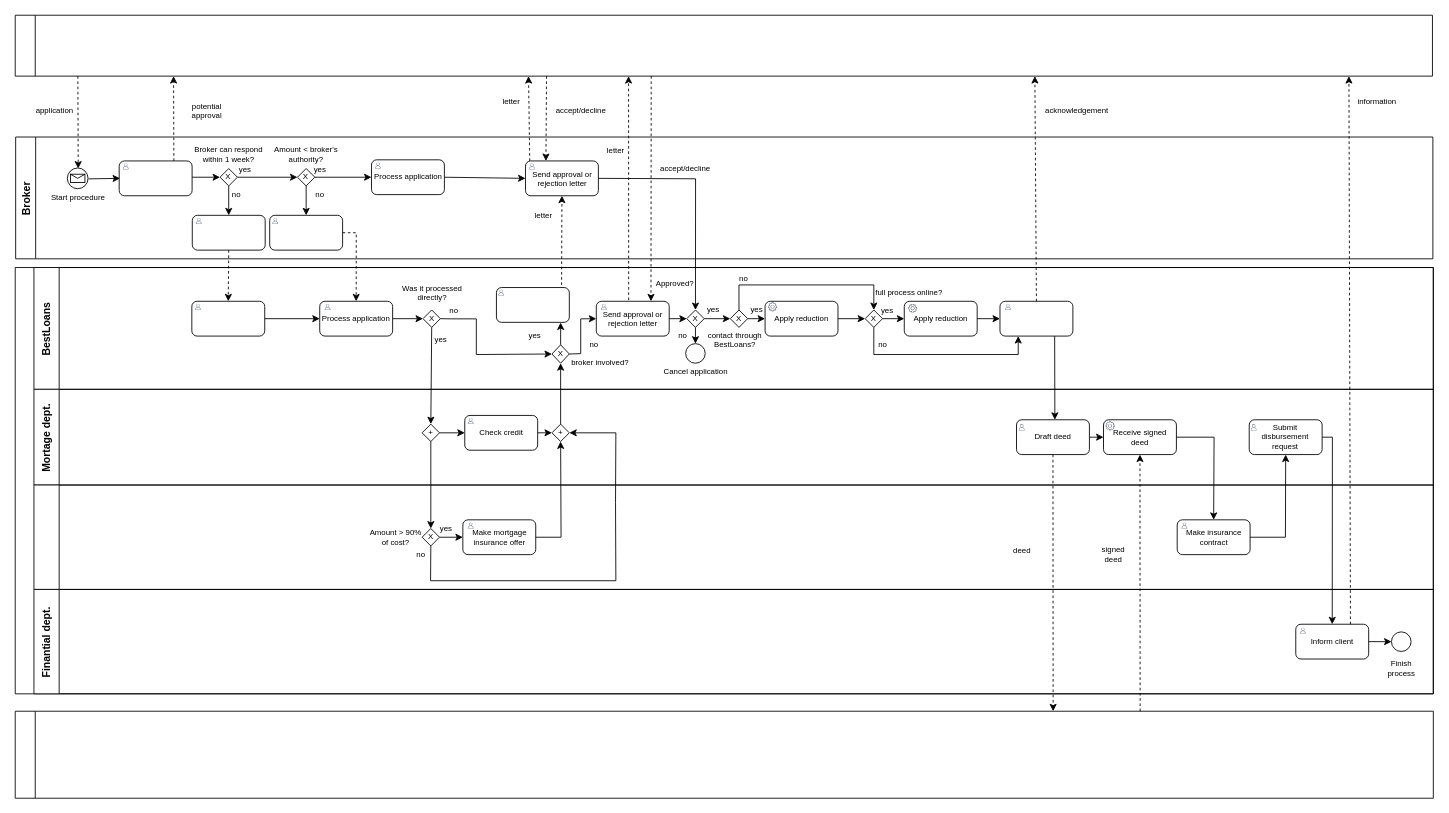
This 1449x813 diagram has some shape labels left out. The shapes that lost their labels are listed below. From the top down, each one's box as (x1, y1, x2, y2) in pixels, then its label:
(14, 14, 1432, 76): Client
(118, 160, 192, 196): Preliminary elegibility check
(191, 214, 265, 250): Request direct contact
(269, 214, 343, 250): Forward application
(191, 300, 265, 336): Enable direct contact
(496, 287, 569, 322): Send approval or rejection letter to broker
(999, 300, 1073, 336): Register application
(14, 267, 1433, 694): Company
(33, 484, 1433, 589): Insurance dept.
(14, 710, 1433, 798): Notary service
